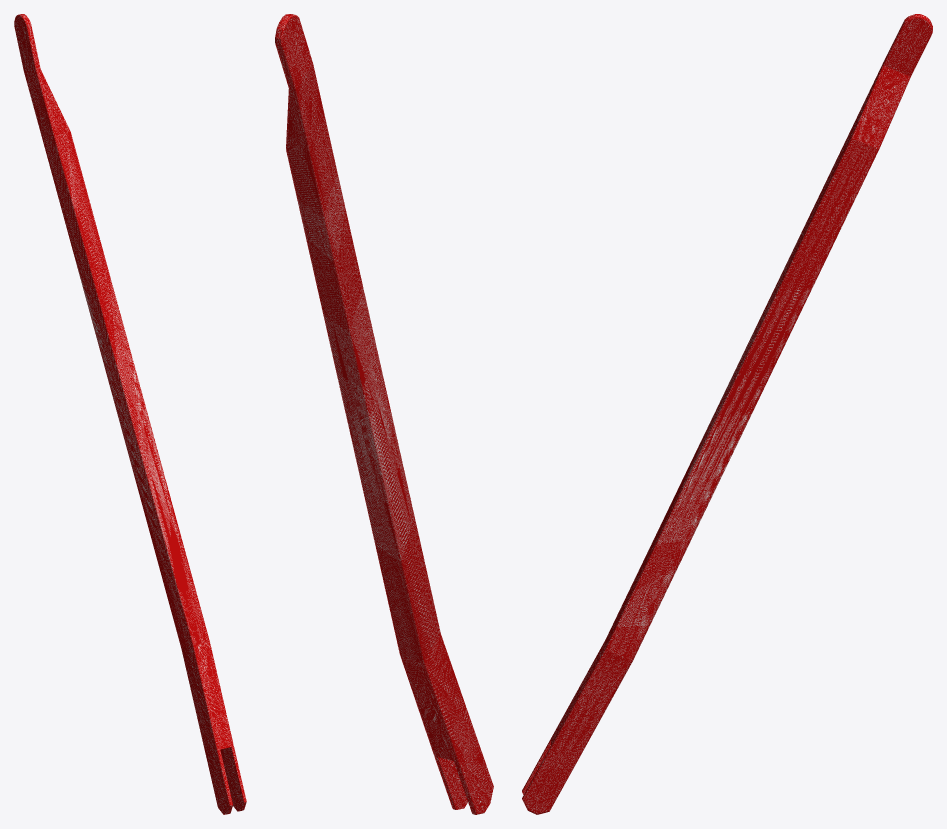
The model's file is original-25.obj.
The picture shows the model from 3 angles, left to right: view 1: azimuth 30°, elevation 25°; view 2: azimuth 150°, elevation 25°; view 3: azimuth 270°, elevation 25°; orthographic projection. The views are drawn at different scales.
Visible parts, largest first — view 1: Box10-FACE1/Box10-FACE/mesh24/mesh24-geometry#mesh24-geometry; view 2: Box10-FACE1/Box10-FACE/mesh24/mesh24-geometry#mesh24-geometry; view 3: Box10-FACE1/Box10-FACE/mesh24/mesh24-geometry#mesh24-geometry.
Boxes of the visible parts, box(x1,y1,x2,y2) form: Box10-FACE1/Box10-FACE/mesh24/mesh24-geometry#mesh24-geometry: box(14, 14, 246, 814); Box10-FACE1/Box10-FACE/mesh24/mesh24-geometry#mesh24-geometry: box(275, 14, 493, 814); Box10-FACE1/Box10-FACE/mesh24/mesh24-geometry#mesh24-geometry: box(522, 14, 932, 814).
Size of the model in its own units: 0.0553 by 0.7001 by 0.337.
